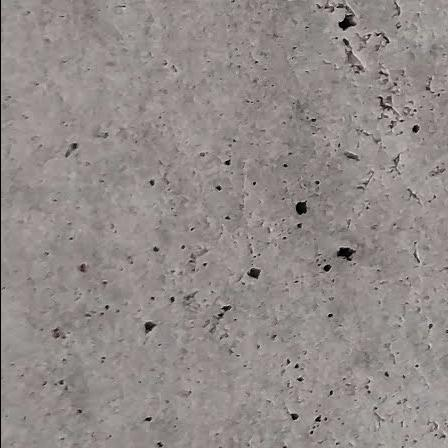hole: (294, 201, 307, 216)
spalling: (308, 0, 366, 38), (331, 36, 366, 79)
